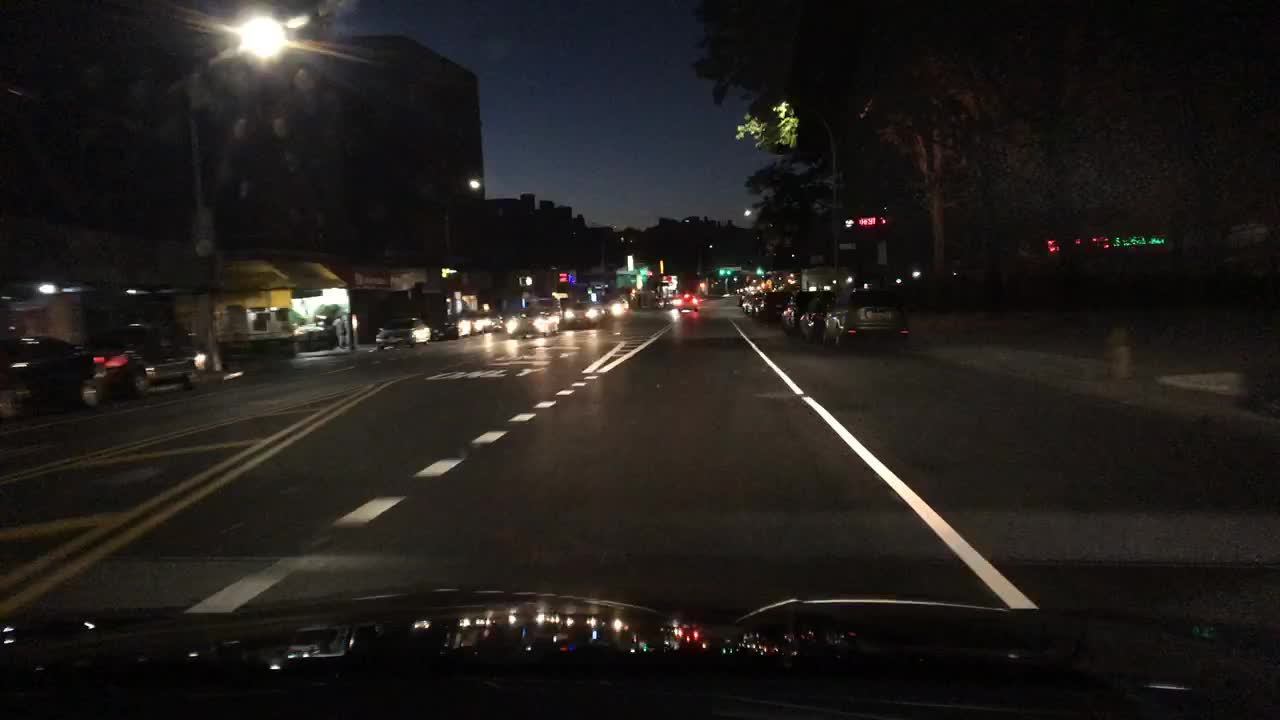car: (71, 319, 212, 410), (0, 332, 93, 419), (820, 286, 913, 344), (792, 289, 837, 341), (506, 296, 564, 336), (375, 315, 434, 353), (748, 287, 794, 322), (776, 289, 811, 326), (434, 309, 471, 339), (561, 301, 603, 327), (600, 295, 630, 321), (469, 309, 502, 332), (671, 290, 702, 313), (740, 292, 757, 315)
traffic light: (717, 265, 731, 276), (522, 275, 535, 285), (756, 261, 763, 276)
